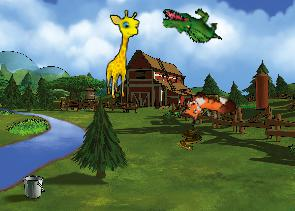crocodile: (161, 6, 222, 44)
fox: (178, 86, 237, 133)
giraffe: (105, 9, 140, 100)
